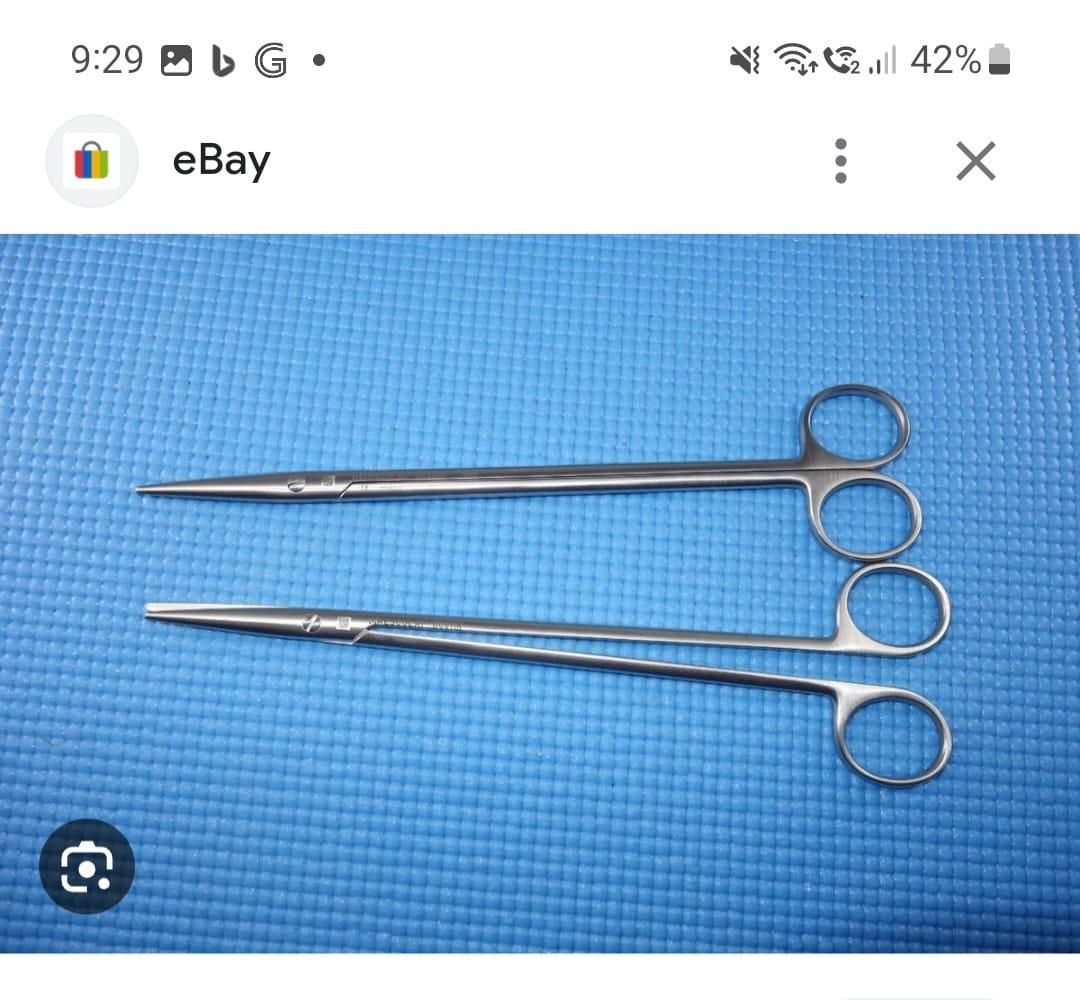Metzenbaum Sciccors: (130, 561, 954, 781), (129, 380, 921, 559)
